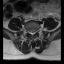CCS_normal: (31, 29, 33, 38)
LFS_normal: (35, 28, 37, 34)
LLS_normal: (33, 29, 35, 36)
RFS_normal: (28, 28, 30, 35)
RLS_normal: (30, 29, 31, 37)
